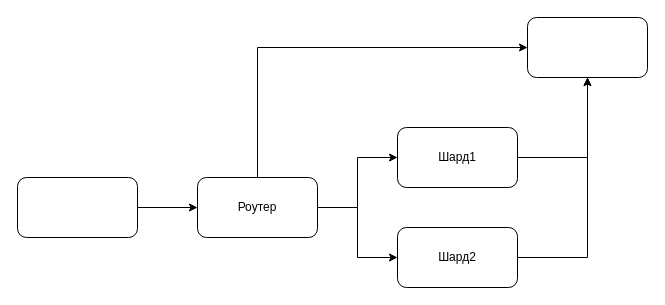
Some shapes in this 665 by 305 pixel diagram are drawn without their labels. Here are the shapes that lost their labels. From the top down, the centre of each, then its label:
(587,47): Конфигуратор
(77,207): pymongo-api
